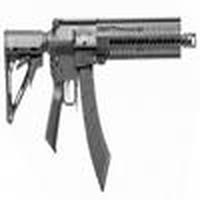gun: (3, 18, 192, 161)
